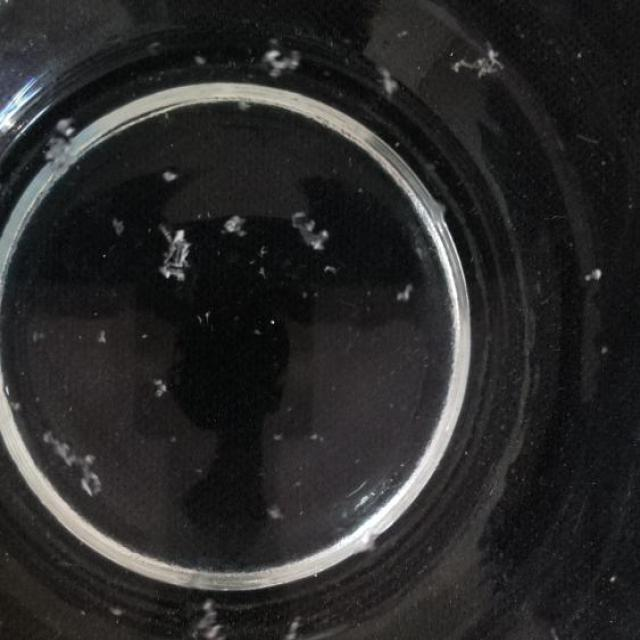fiber: (41, 427, 103, 494), (46, 118, 82, 185), (157, 219, 196, 279), (288, 208, 334, 252), (450, 43, 503, 78), (191, 594, 226, 640), (266, 44, 304, 81), (376, 65, 400, 97), (396, 276, 422, 305), (222, 208, 248, 236), (579, 262, 608, 286), (283, 614, 306, 640), (253, 244, 270, 275), (195, 306, 215, 328), (150, 375, 169, 398), (106, 602, 130, 620), (266, 505, 284, 522), (192, 49, 208, 68), (29, 330, 48, 346), (236, 93, 252, 111), (162, 166, 176, 186), (94, 325, 109, 343), (394, 27, 414, 40), (322, 261, 339, 275), (110, 218, 126, 232), (308, 432, 324, 442), (600, 340, 608, 354), (608, 570, 616, 583), (267, 317, 279, 324), (273, 432, 280, 441)
